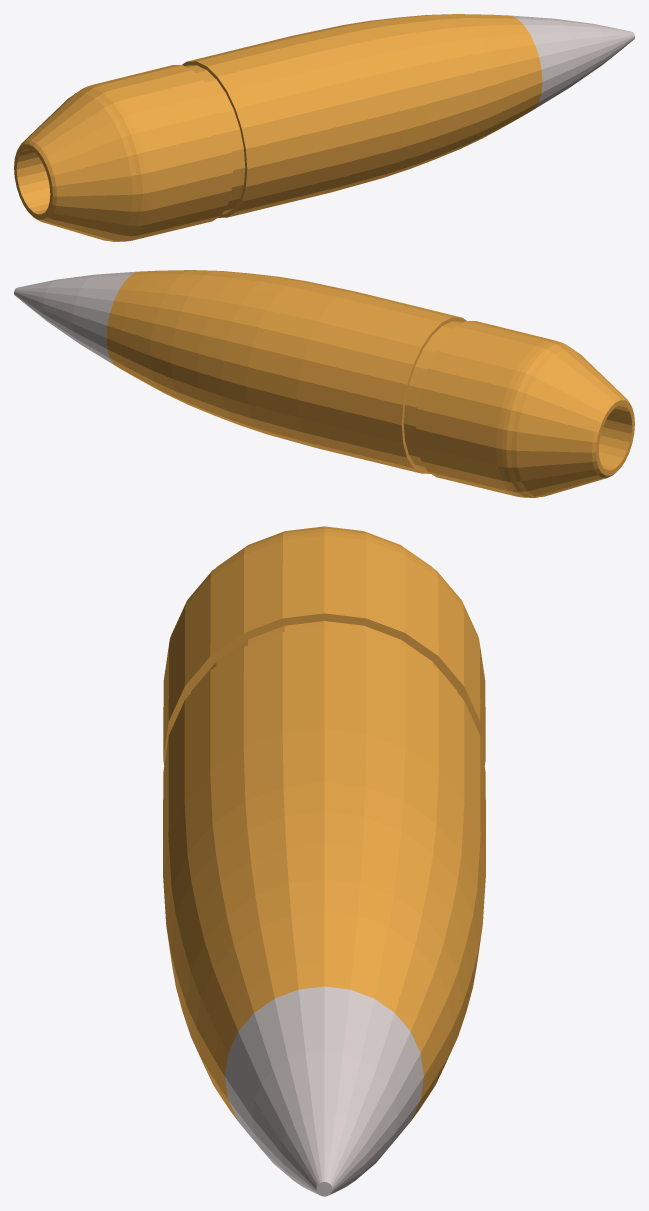
Rendered from barret.fbx.
The picture shows the model from 3 angles, top to bottom: view 1: azimuth 30°, elevation 25°; view 2: azimuth 150°, elevation 25°; view 3: azimuth 270°, elevation 25°; orthographic projection. The views are drawn at different scales.
Parts seen in each view (by area): view 1: Steal.018; view 2: Steal.018; view 3: Steal.018.
Part boxes in pixels (x1=…): Steal.018: x1=14, y1=14, x2=634, y2=241; Steal.018: x1=14, y1=270, x2=634, y2=497; Steal.018: x1=163, y1=526, x2=485, y2=1196.
Bounding box in the file's own units: 128 × 29.82 × 29.82.
